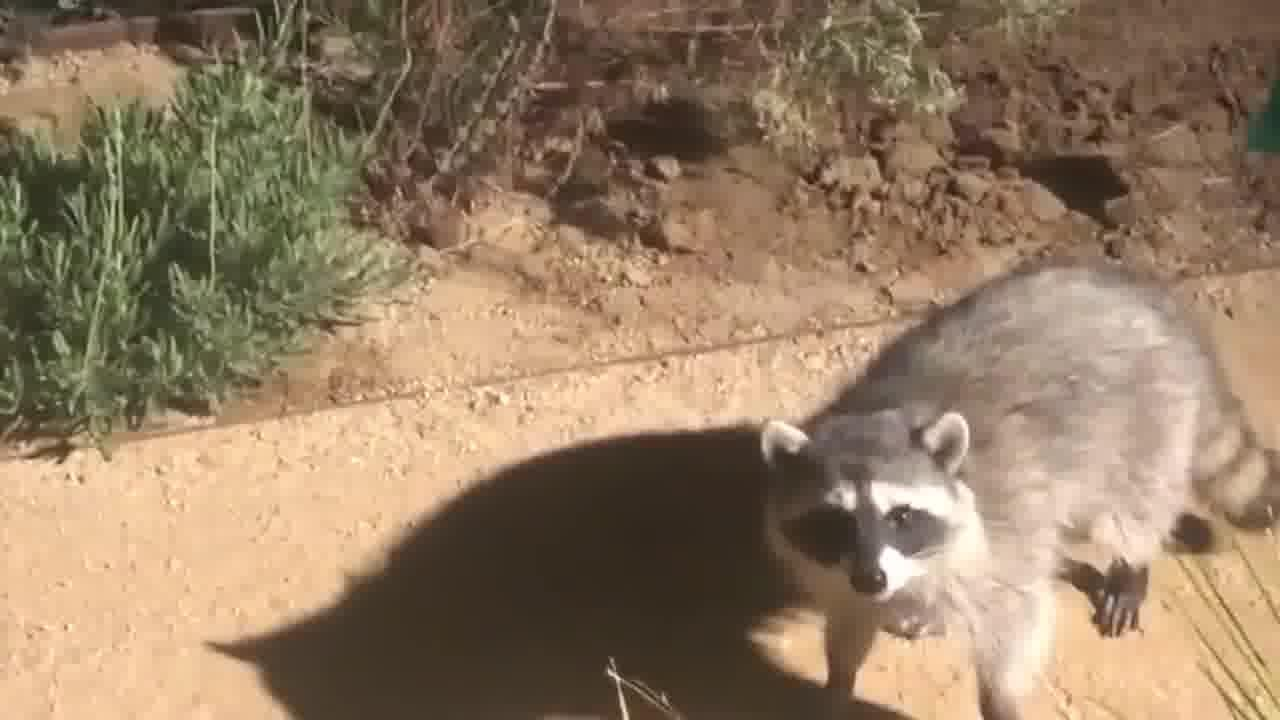raccoon: (719, 226, 1280, 720)
